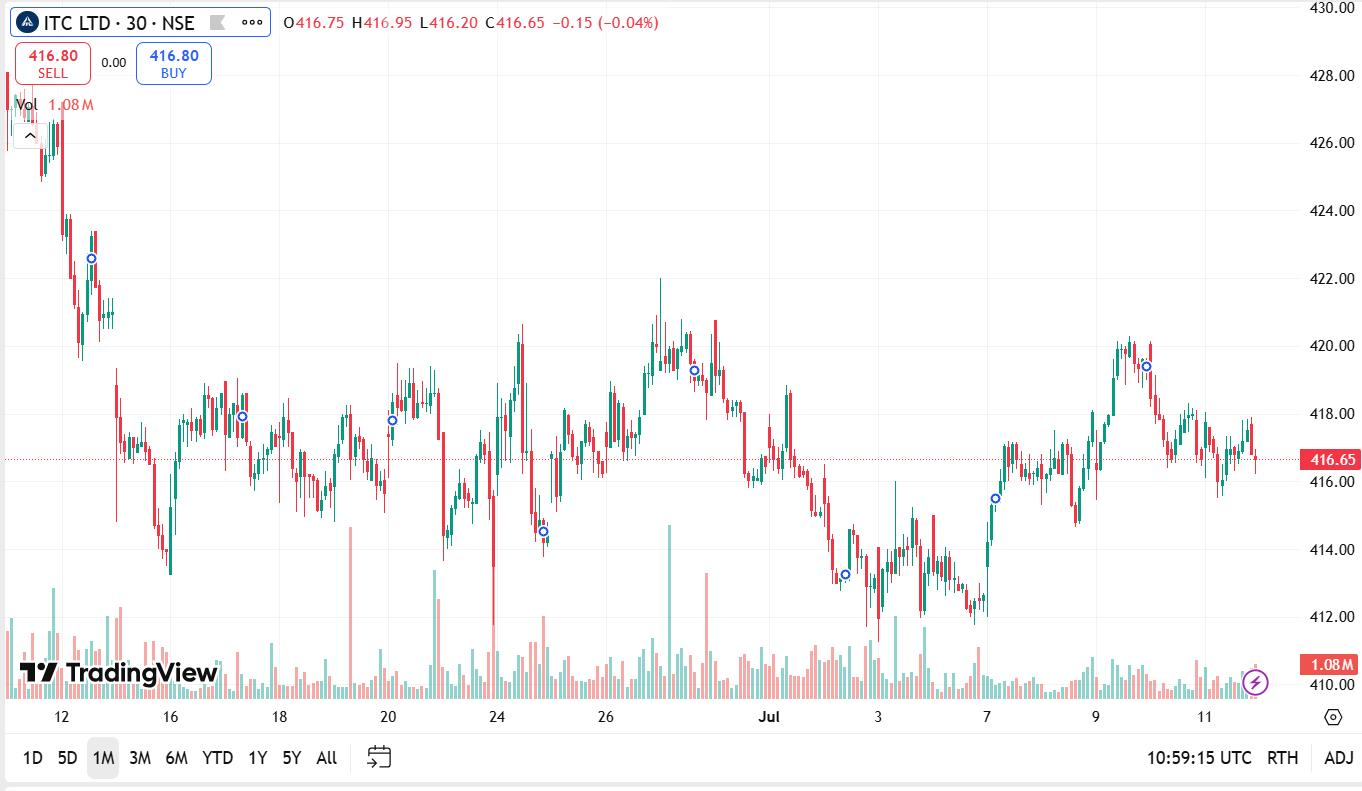Downtrend: (87, 194, 133, 488), (413, 310, 464, 556), (707, 307, 766, 496)
Sideways: (553, 370, 640, 493), (1187, 390, 1269, 498)
Uptrend: (1067, 290, 1129, 516), (963, 409, 1018, 621), (160, 405, 196, 573)
